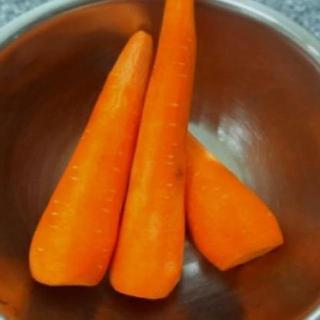carrot: (26, 24, 158, 292), (107, 3, 203, 307), (181, 124, 285, 273)
